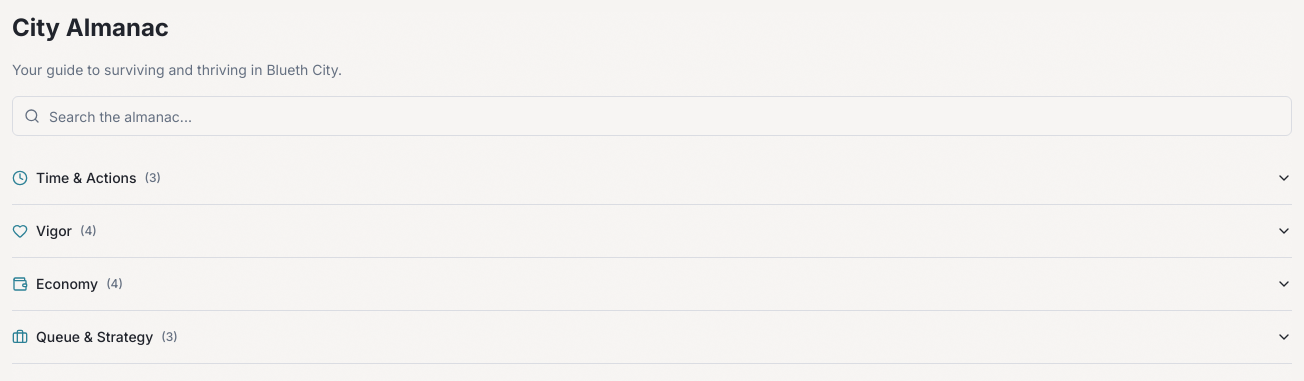
Test: AlmanacPage › shows "No entries found" for unmatched search
This screenshot has width=1304, height=381.
Step 1. Type "zzzzxyznonexistent" into the search field with placeholder "Search the almanac..." → [652, 116], box [12,96,1292,136]
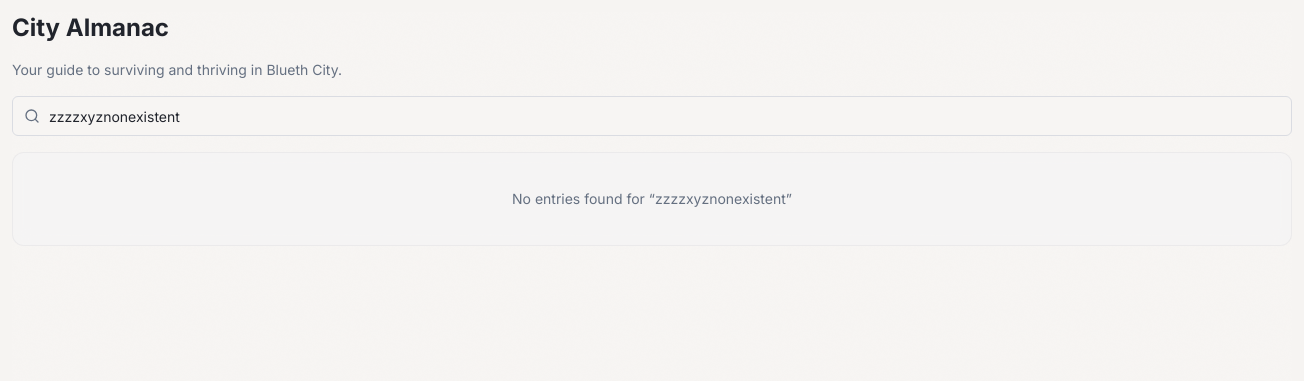
Expected: the text "No entries found for “zzzzxyznonexistent”" is shown, [512,190,792,207]
